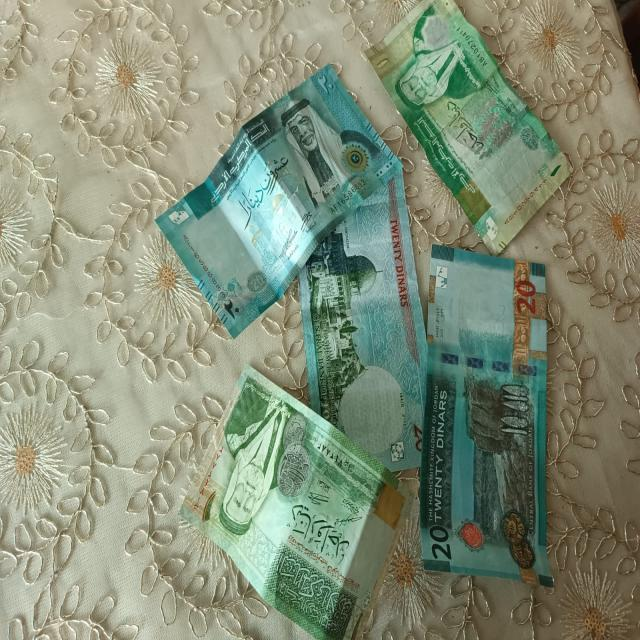1-dinar: (182, 358, 413, 640), (363, 0, 575, 256)
20-dinar: (154, 64, 404, 343), (421, 235, 558, 594), (292, 160, 438, 478)
